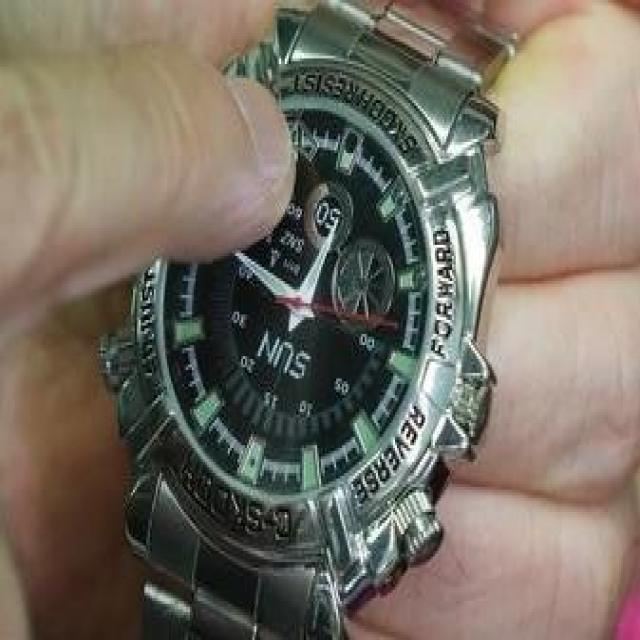hidden camera: (334, 122, 371, 167)
